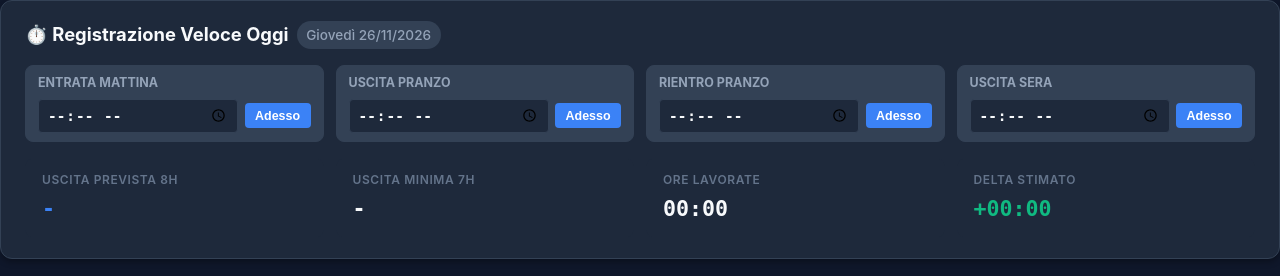
Test case: TodayHeroWidget Feature › clicking "Entra Ora" registers current time and shows expected exits
The width and height of the screenshot is (1280, 276).
Click the button with test id "hero-btn-morningIn": click(278, 116) [245,103,310,128]
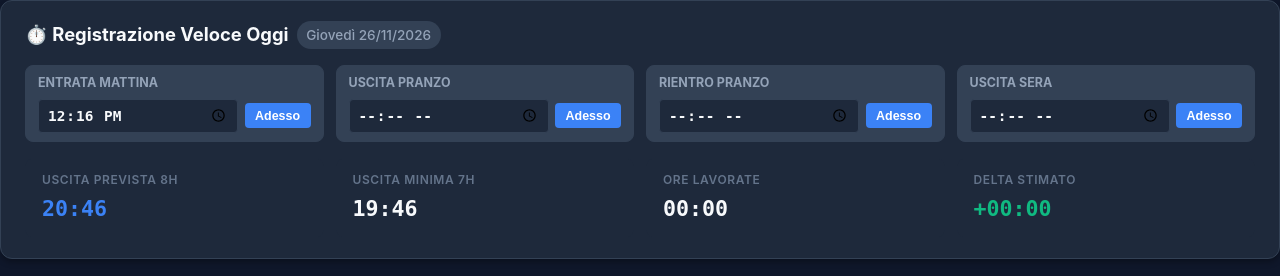
Check: the text with test id "hero-expected-8h" no longer shows "-", box [42,196,107,221]
Check: the text with test id "hero-expected-7h" no longer shows "-", box [352,196,418,221]
